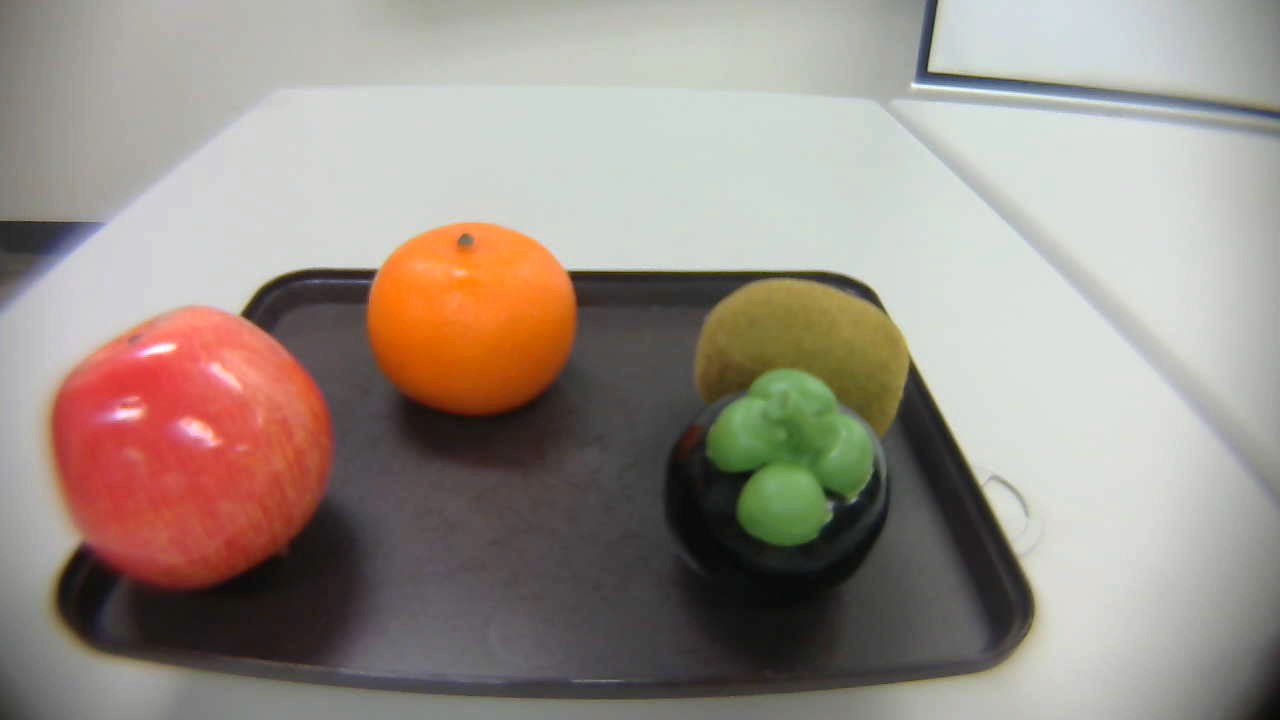kiwi fruit: (693, 269, 915, 444)
mangosteen: (663, 368, 899, 604)
orange: (363, 214, 585, 429)
red apple: (53, 306, 345, 586)
